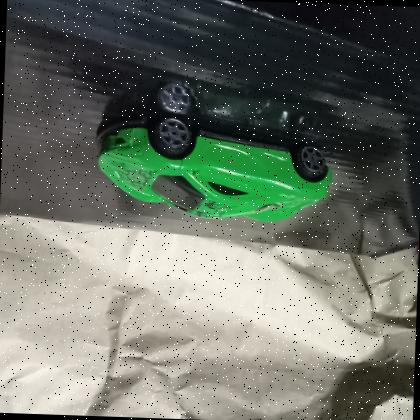Car: (89, 108, 339, 229)
